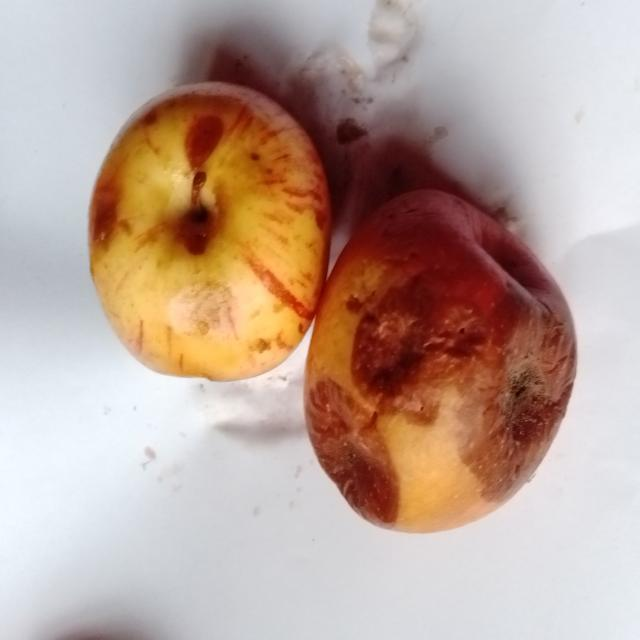apple: (305, 191, 576, 531), (90, 83, 330, 380)
